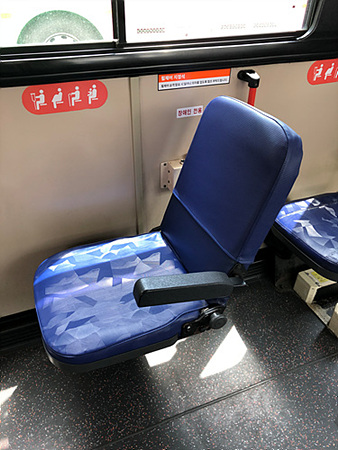seat: (30, 94, 306, 369)
